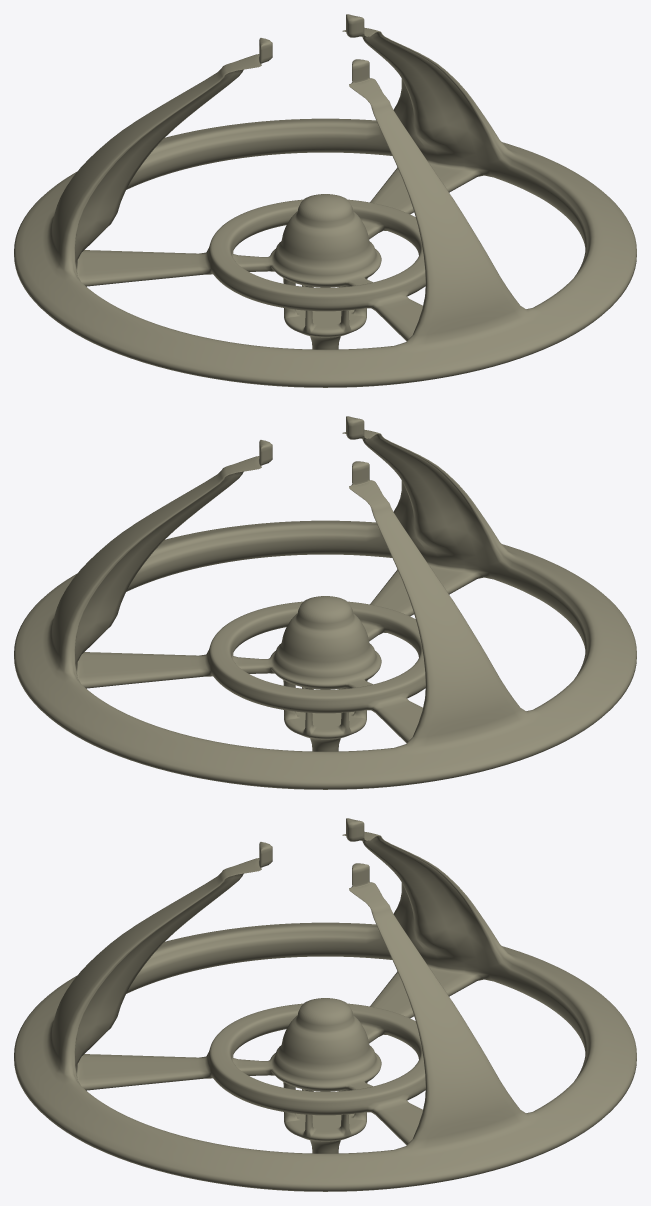
The model's file is battlestation.fbx.
The picture shows the model from 3 angles, top to bottom: view 1: azimuth 30°, elevation 25°; view 2: azimuth 150°, elevation 25°; view 3: azimuth 270°, elevation 25°; orthographic projection.
Visible parts, largest first — view 1: Torus_002; view 2: Torus_002; view 3: Torus_002.
Boxes of the visible parts, x1=… form: Torus_002: x1=14, y1=14, x2=636, y2=387; Torus_002: x1=14, y1=416, x2=636, y2=789; Torus_002: x1=14, y1=818, x2=636, y2=1191.
Size of the model in its own units: 27 by 15.46 by 27.
